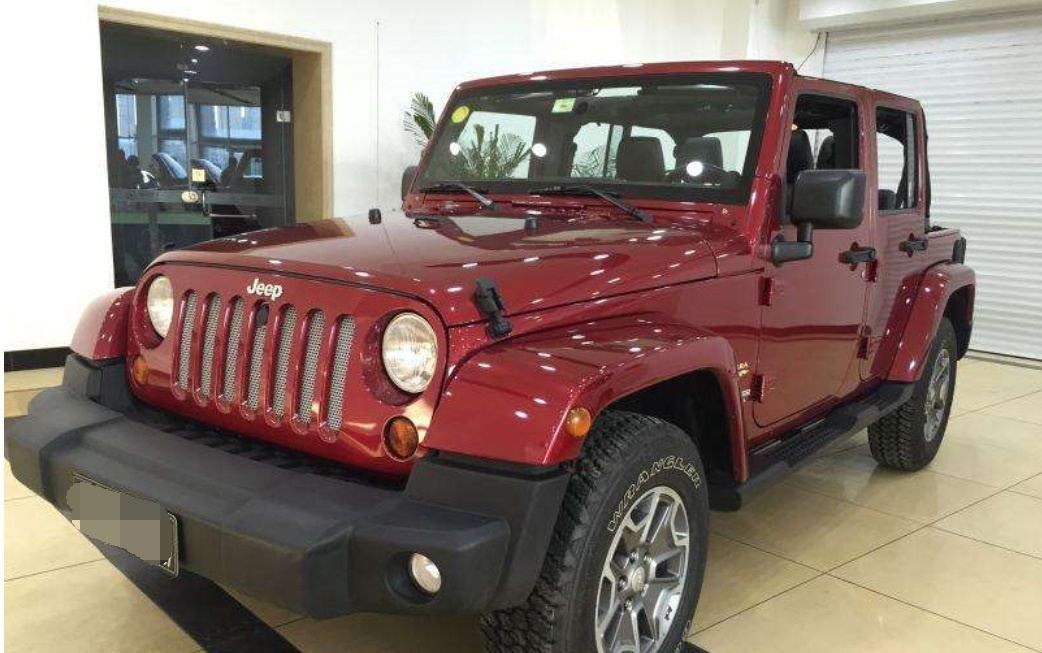jeep: (64, 49, 967, 653)
